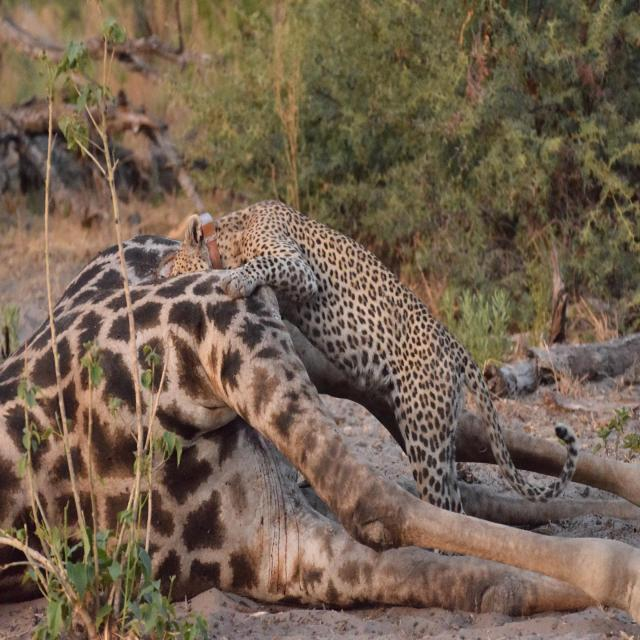Leopard: (172, 196, 594, 541)
